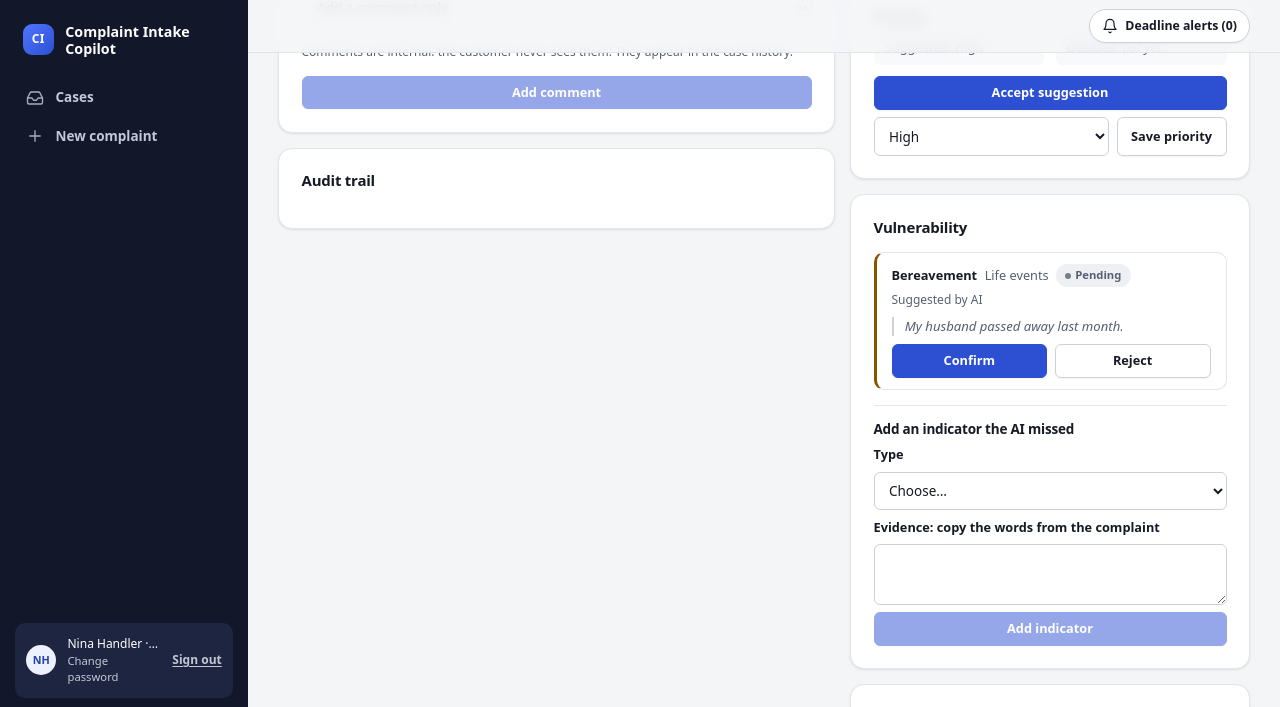
it: a case › rejecting an indicator keeps it visible as rejected
This screenshot has width=1280, height=707.
(page scrolled)
Click the button "Reject".
click(1133, 361)  # box left=1055, top=344, right=1211, bottom=378
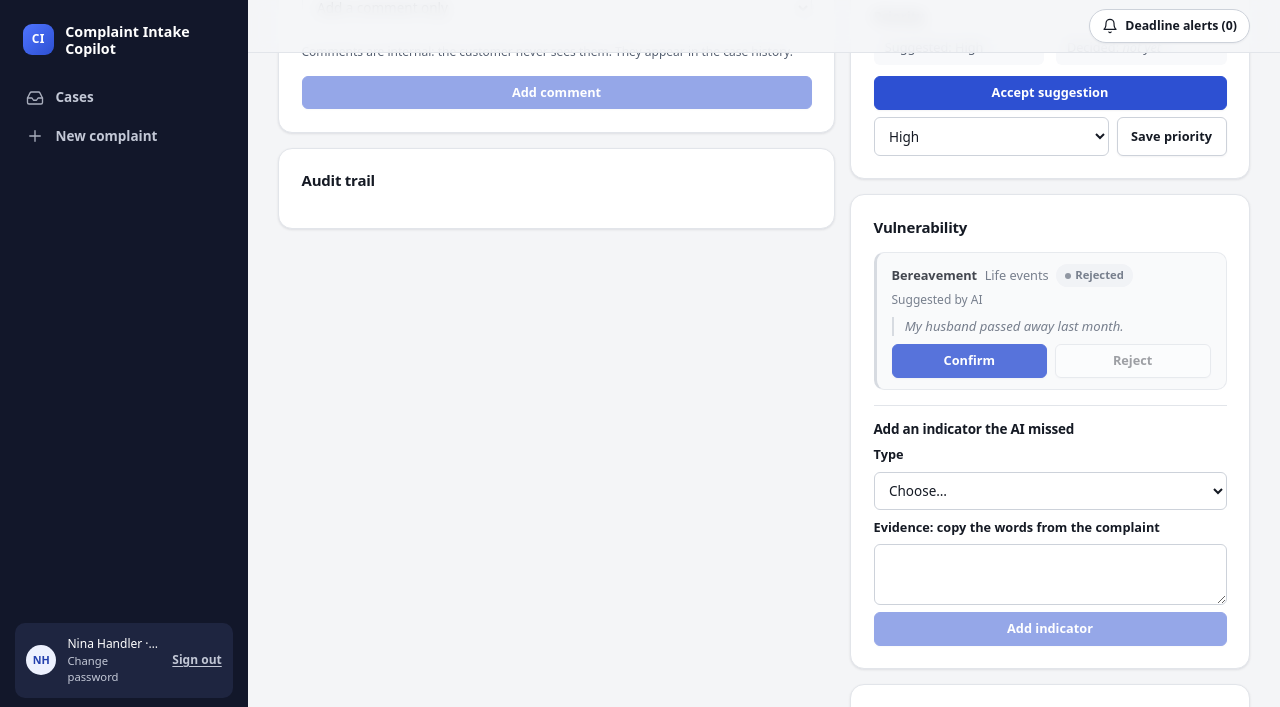
Expected: the text "My husband passed away last month." is shown, left=892, top=317, right=1210, bottom=336
Result: the text "Rejected" is shown at left=1056, top=264, right=1133, bottom=287
